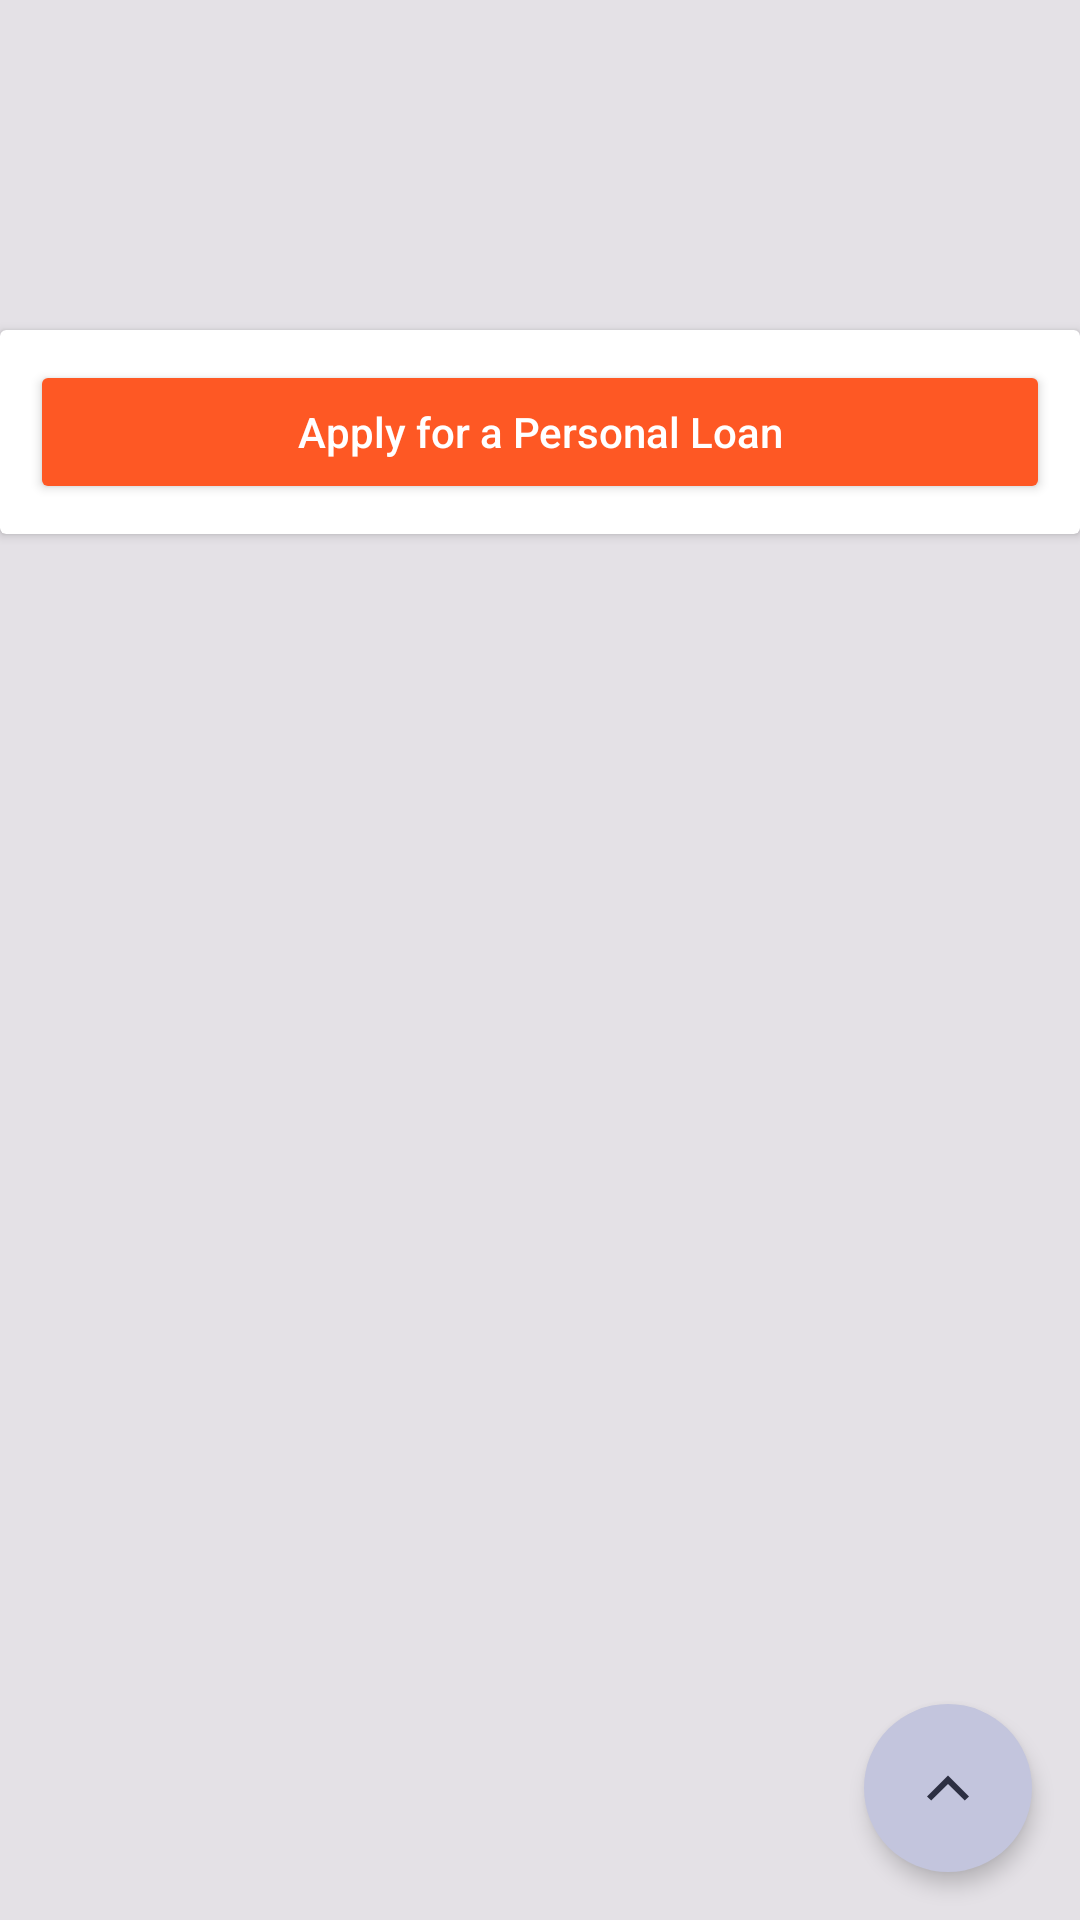

Named icons in this screenshot (1080x1920) and their centers, (x=x, y=y):
key up: (x=948, y=1788)
